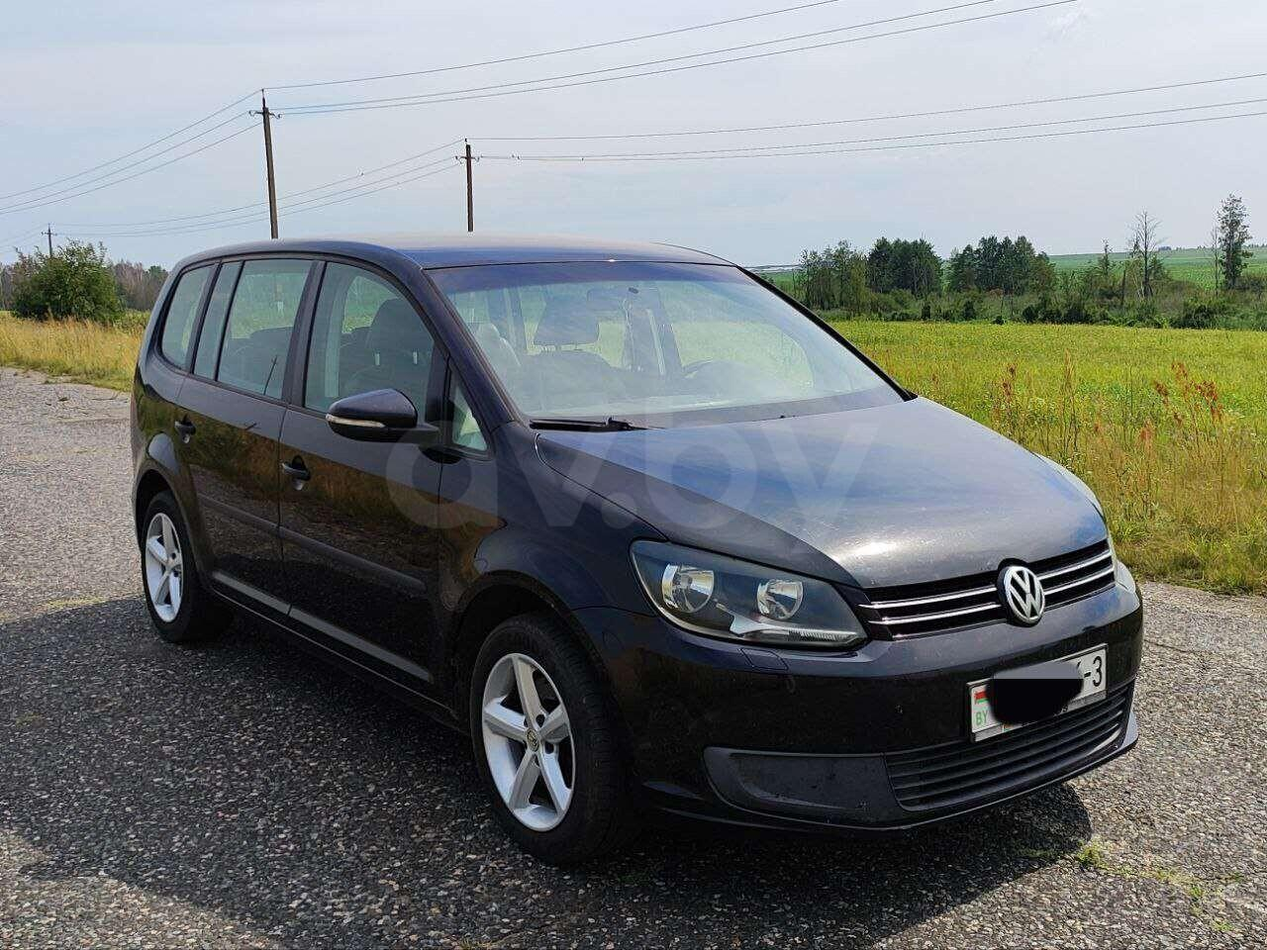Touran_2010-2015: (122, 224, 1151, 877)
